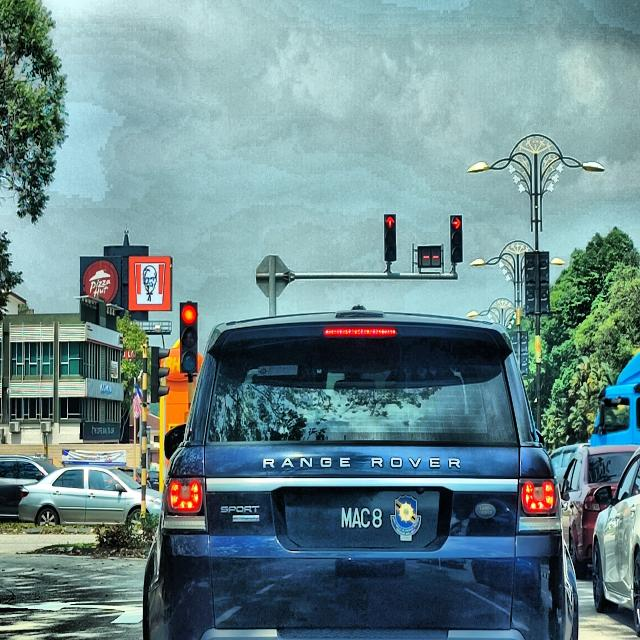red: (180, 302, 198, 373), (450, 216, 462, 262), (385, 214, 396, 262)
